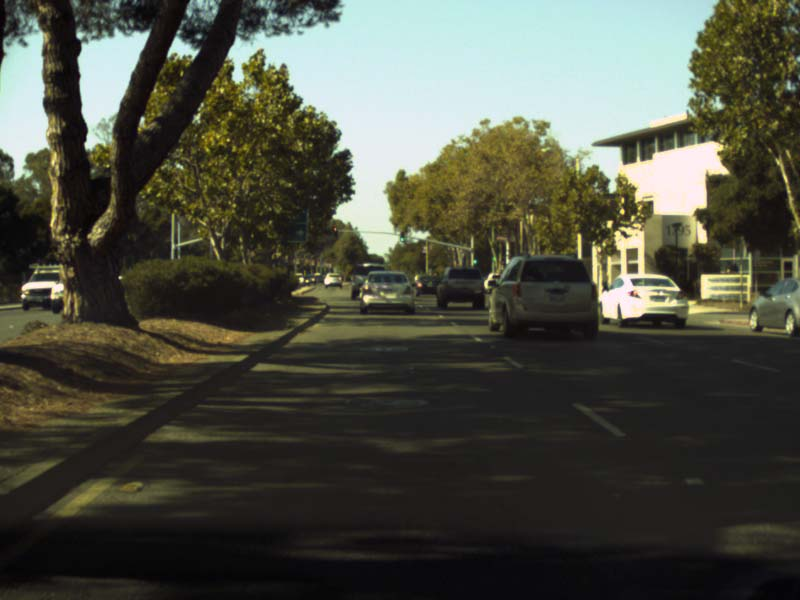Green: (400, 237, 403, 242), (472, 259, 475, 263), (491, 257, 494, 261)
Red: (333, 226, 336, 234)
